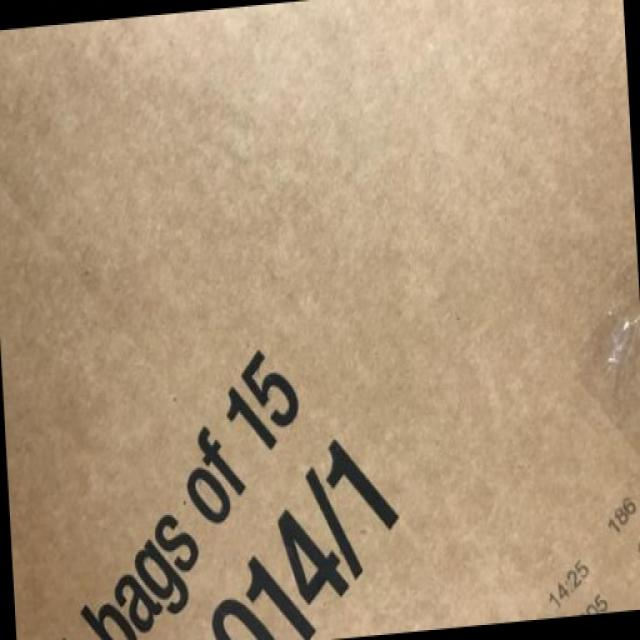carton: (101, 264, 562, 596)
